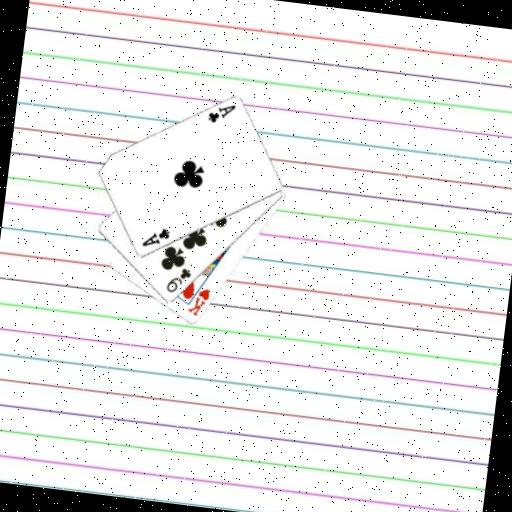9C: (163, 263, 194, 297)
AC: (138, 222, 172, 251), (204, 99, 237, 128)
KH: (184, 284, 212, 319)
